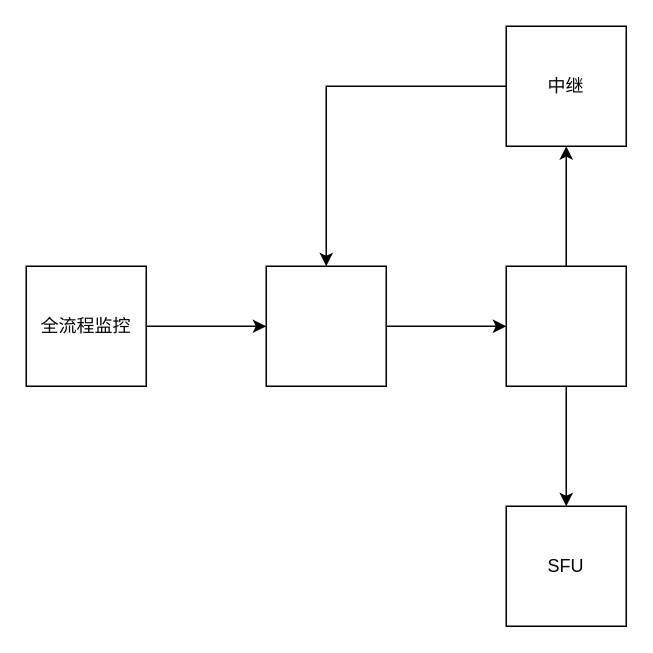
The diagram is 653 pixels wide and 653 high, and some of its shapes have lost their labels. Each missing label, with the centre of its shape:
"信令" goes at point (565, 325).
"网关" goes at point (325, 325).
